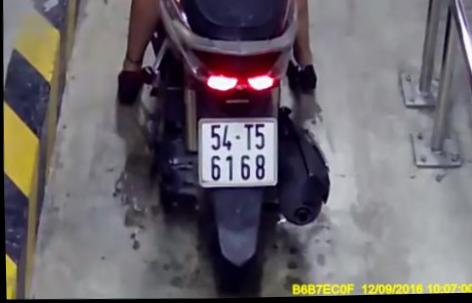LP: (196, 116, 278, 190)
